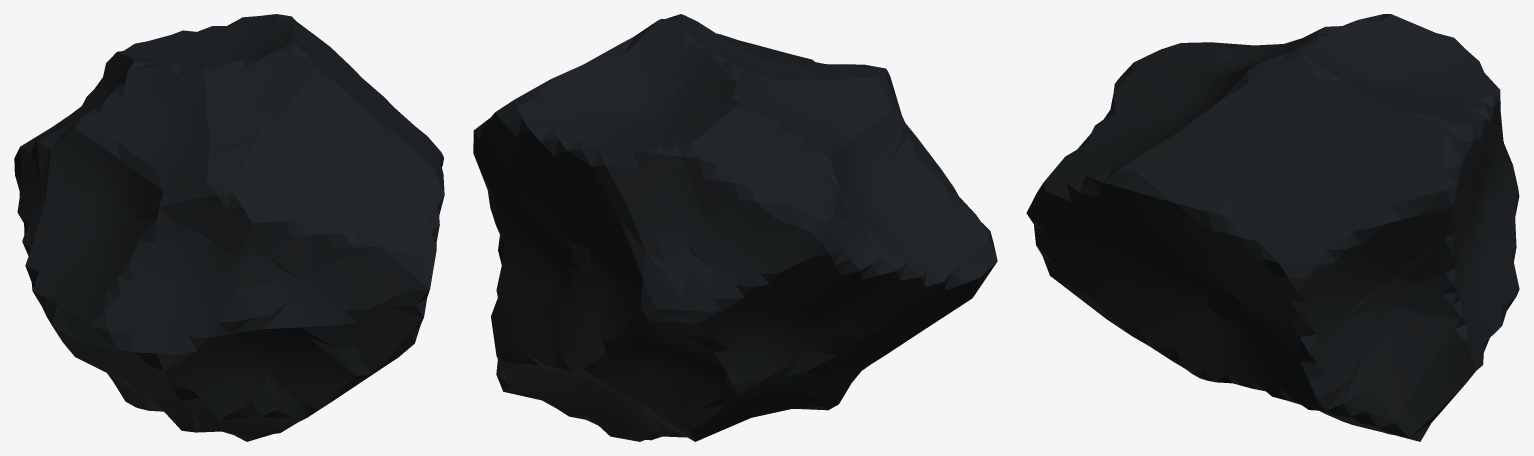
The model's file is Asteroid_h_04.FBX.
The picture shows the model from 3 angles, left to right: view 1: azimuth 30°, elevation 25°; view 2: azimuth 150°, elevation 25°; view 3: azimuth 270°, elevation 25°; orthographic projection. The views are drawn at different scales.
Parts seen in each view (by area): view 1: Asteroid_h_04; view 2: Asteroid_h_04; view 3: Asteroid_h_04.
Part boxes in pixels (x1,y1,x2,y2): Asteroid_h_04: [14, 14, 444, 441]; Asteroid_h_04: [473, 14, 997, 441]; Asteroid_h_04: [1026, 14, 1519, 441].
Size of the model in its own units: 3134 by 2613 by 3065.
